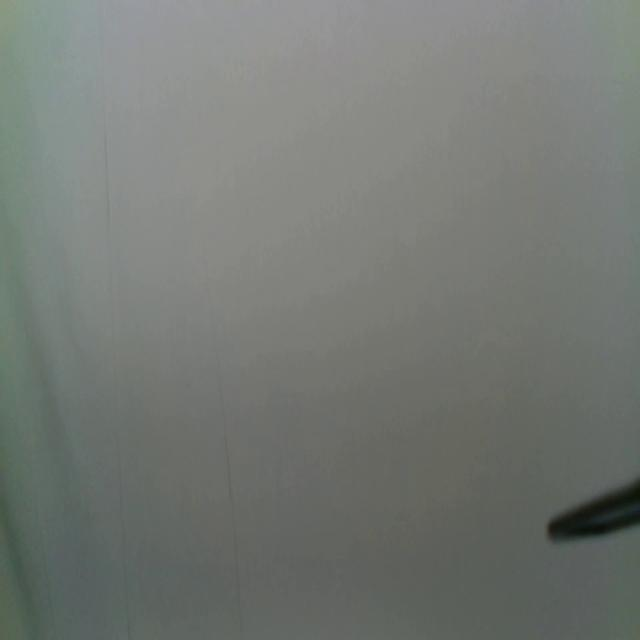crease: (99, 0, 132, 640), (208, 266, 243, 640)
